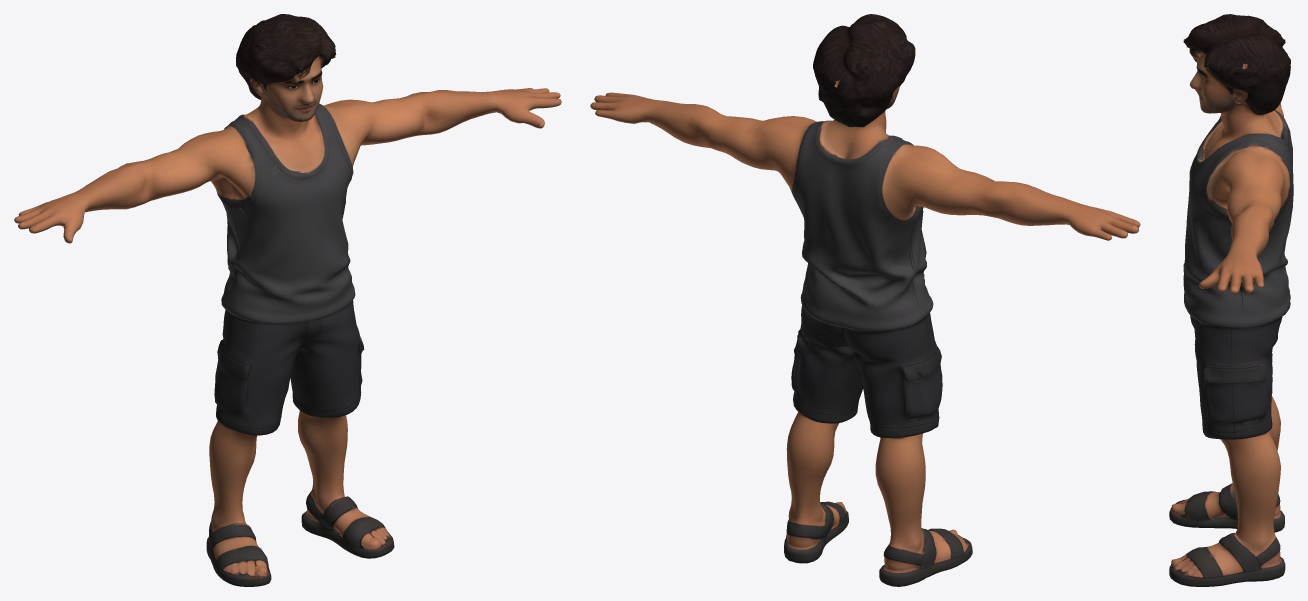
File: male11.glb
The picture shows the model from 3 angles, left to right: view 1: azimuth 30°, elevation 25°; view 2: azimuth 150°, elevation 25°; view 3: azimuth 270°, elevation 25°; orthographic projection.
Visible parts, largest first — view 1: tripo_node_baabb326-51e8-4d8b-b8b4-261476fa2cc4; view 2: tripo_node_baabb326-51e8-4d8b-b8b4-261476fa2cc4; view 3: tripo_node_baabb326-51e8-4d8b-b8b4-261476fa2cc4.
Boxes of the visible parts, x1,y1,x2,y2 form: tripo_node_baabb326-51e8-4d8b-b8b4-261476fa2cc4: [14, 14, 561, 586]; tripo_node_baabb326-51e8-4d8b-b8b4-261476fa2cc4: [590, 14, 1140, 586]; tripo_node_baabb326-51e8-4d8b-b8b4-261476fa2cc4: [1169, 14, 1293, 586].
Bounding box in the file's own units: 0.9861 × 0.9268 × 0.1966.
1 material, 1 textured.
